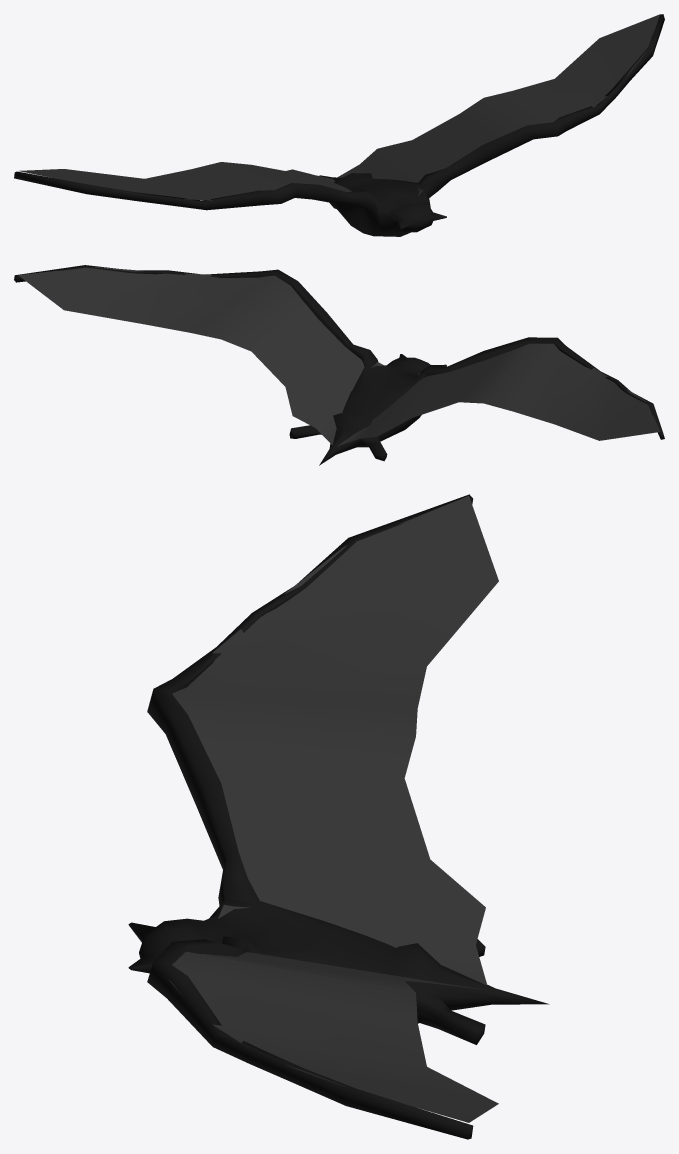
File: bat.fbx
3 views of the same model, one above another, from view 1: azimuth 30°, elevation 25°; view 2: azimuth 150°, elevation 25°; view 3: azimuth 270°, elevation 25° (orthographic). The views are drawn at different scales.
Parts seen in each view (by area): view 1: bat; view 2: bat; view 3: bat.
Part boxes in pixels (left/top/right/bottom): bat: left=14, top=14, right=664, bottom=236; bat: left=14, top=265, right=664, bottom=465; bat: left=128, top=494, right=549, bottom=1139.
Bounding box in the file's own units: 396 × 61.02 × 111.
1 material, 1 textured.
